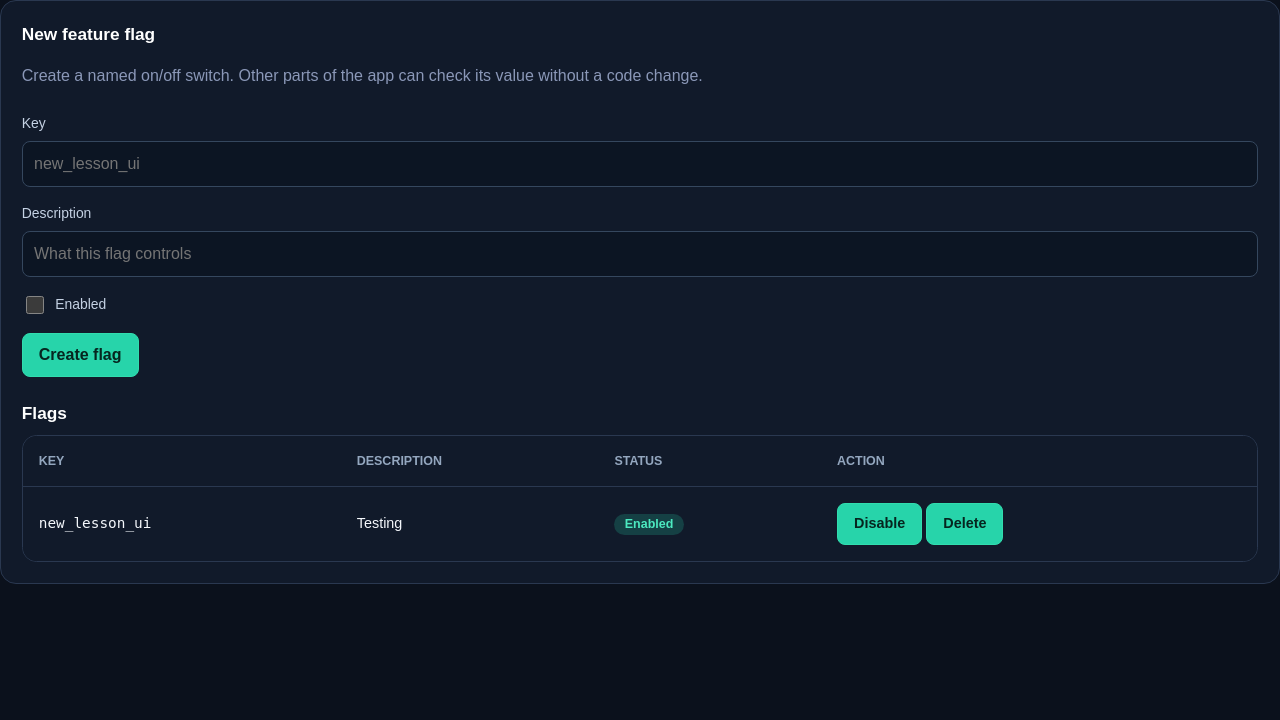
Test: FeatureFlagsManager › deletes a flag
What coordinates should you click on to do the following:
click the button "Delete"
I would click on:
 (965, 524)
Its box is [926,503,1003,545].
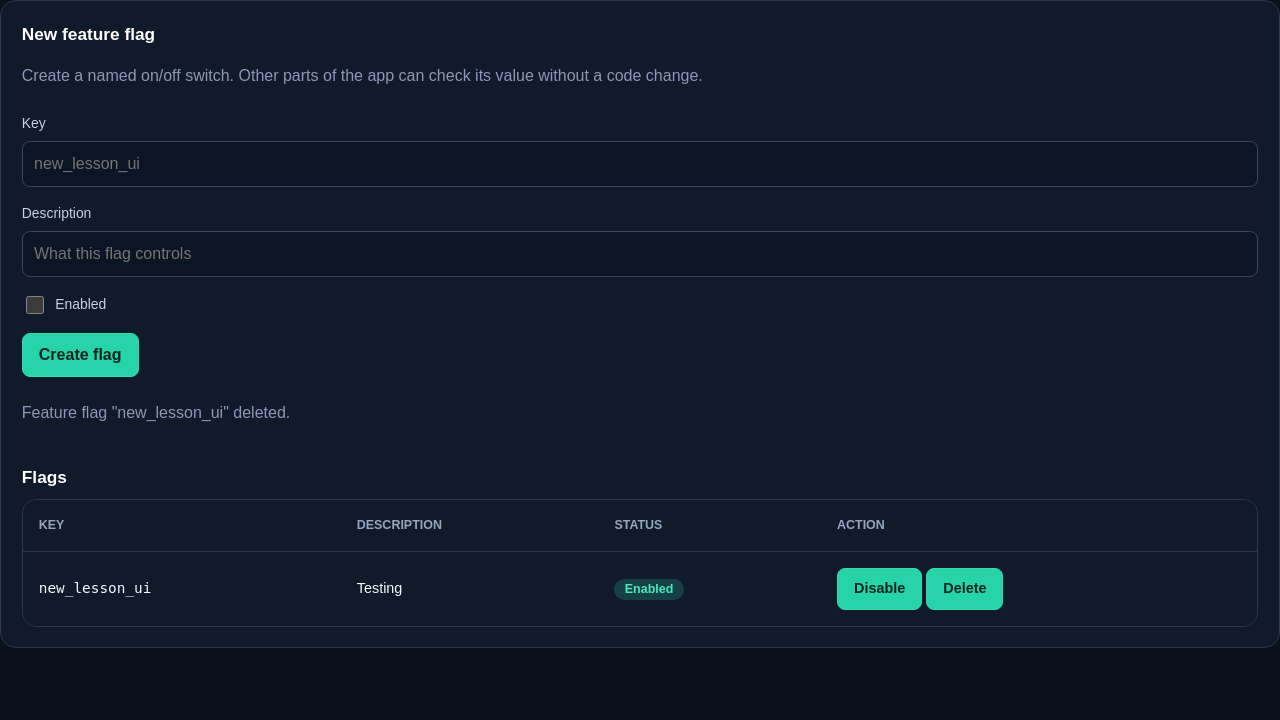
Expected: the text "new_lesson_ui" is shown, [39,580,151,596]
Expected: the message shows "deleted", [22,404,290,421]
